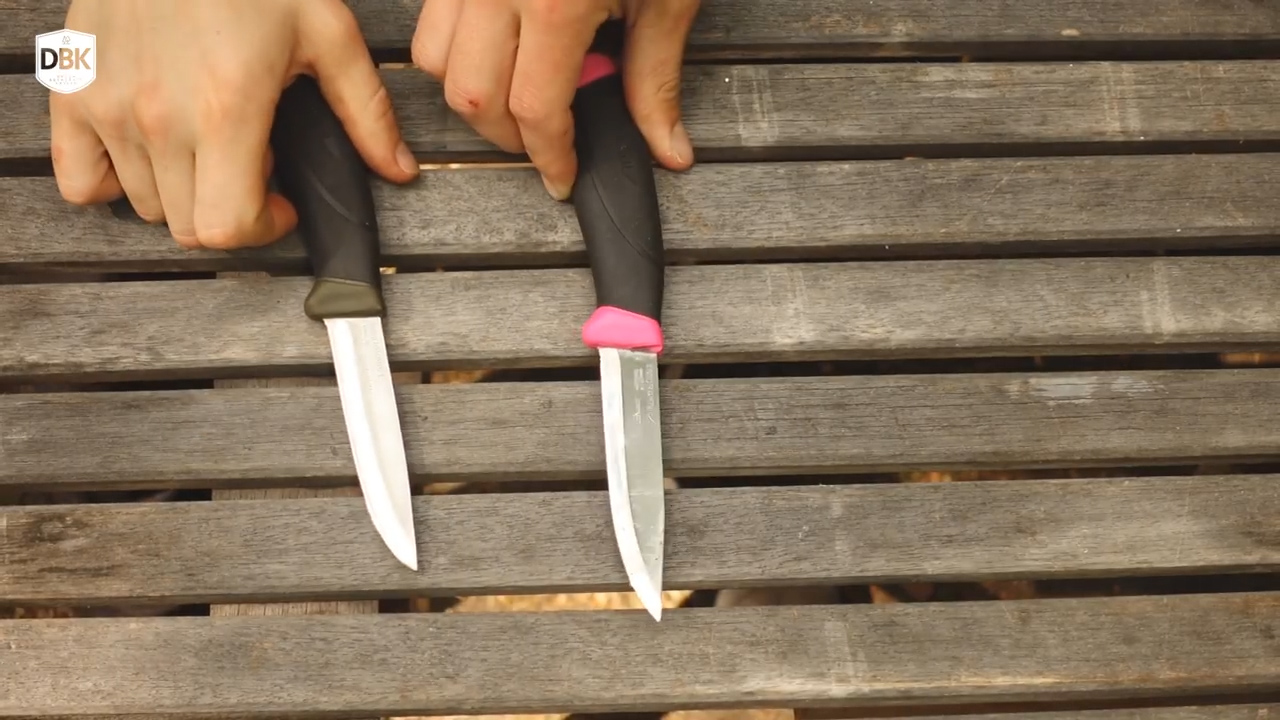knife: (283, 243, 449, 592), (564, 278, 693, 637)
